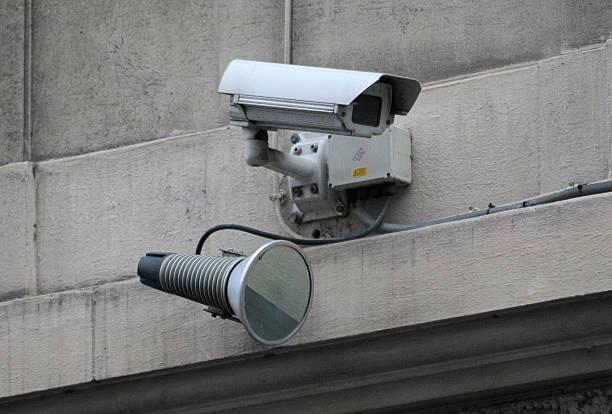camera: (211, 37, 430, 166)
